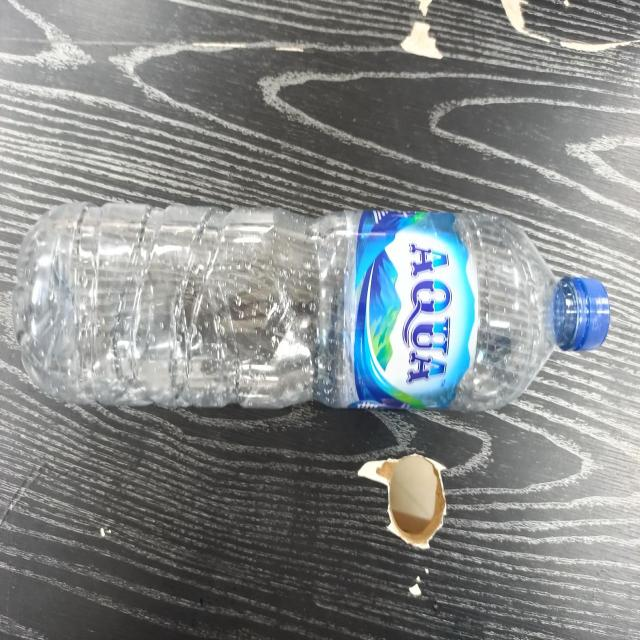BotolPlastik: (12, 198, 610, 414)
